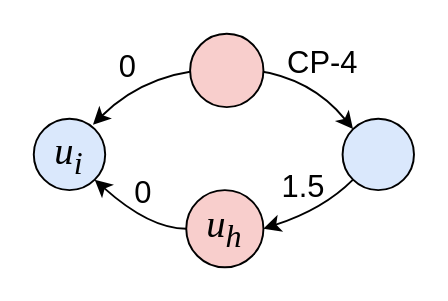
Image size: 448x301. Some labels were removed from this diagram. The shapes that lost their labels are listed below. From the top down, each one's centre as x and y in pixels, then its label:
point 225,69: u s
point 377,153: u j
